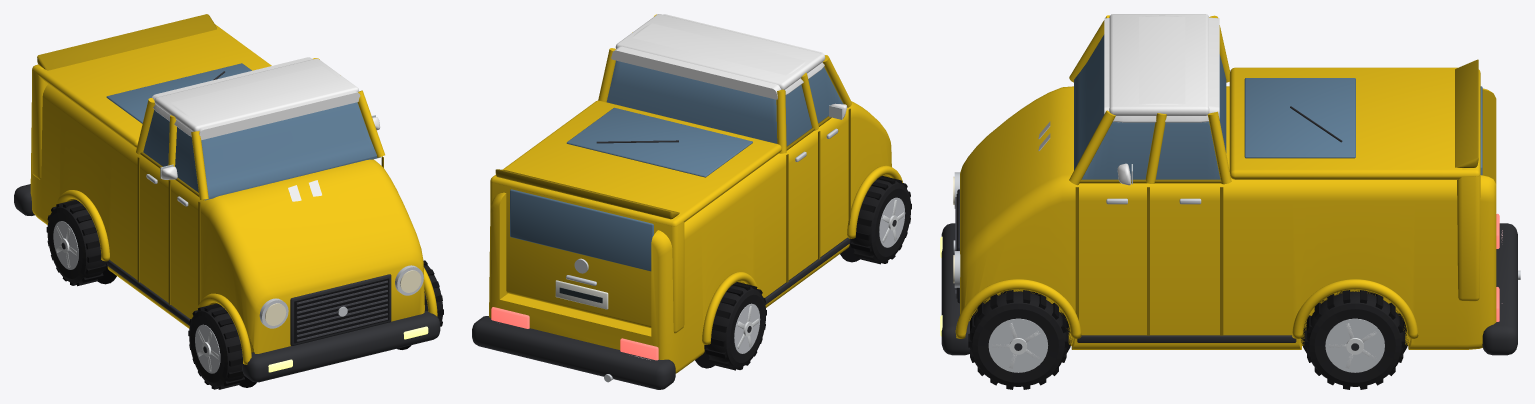
The model's file is helper.fbx.
3 renders of one model, left to right at view 1: azimuth 30°, elevation 25°; view 2: azimuth 150°, elevation 25°; view 3: azimuth 270°, elevation 25°, orthographic. The views are drawn at different scales.
Parts seen in each view (by area): view 1: Body, Lid, Wheel_1, Wheel_3, LidFlap, Wheel_2; view 2: Body, Lid, LidFlap, Wheel_3, Wheel_1; view 3: Body, Lid, Wheel_0, Wheel_2, LidFlap.
Part boxes in pixels (x1,y1,x2,y2): Body: (14,57,440,387); Lid: (32,14,271,147); Wheel_1: (46,199,106,286); Wheel_3: (188,303,245,389); LidFlap: (32,65,47,179); Wheel_2: (423,260,443,326); Body: (472,14,902,389); Lid: (490,100,781,226); LidFlap: (490,176,684,333); Wheel_3: (850,175,911,264); Wheel_1: (705,282,766,370); Body: (940,14,1520,355); Lid: (1229,59,1480,179); Wheel_0: (1305,290,1405,389); Wheel_2: (968,290,1068,389); LidFlap: (1457,86,1482,301).
Size of the model in its own units: 4.5 by 4.46 by 8.56.
